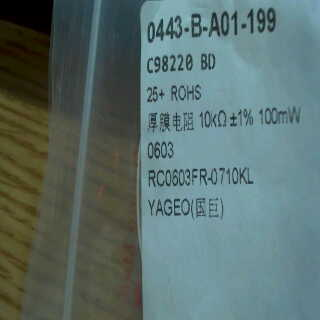10kR: (195, 106, 229, 133)
